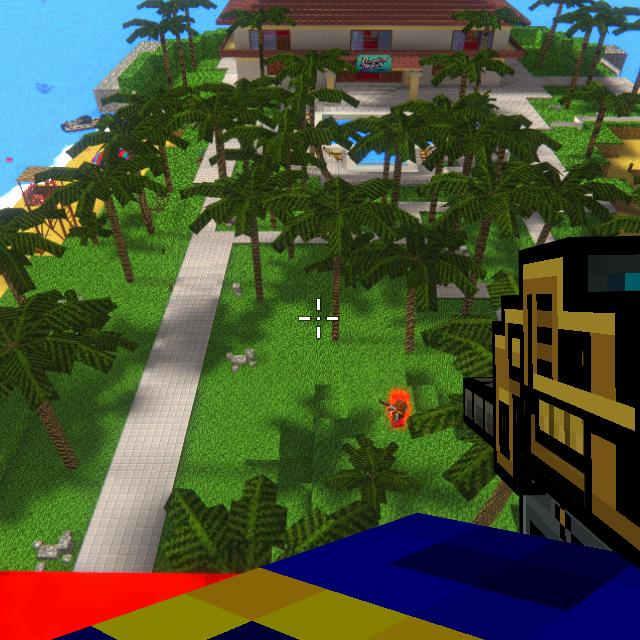Enemy: (389, 400, 407, 427)
